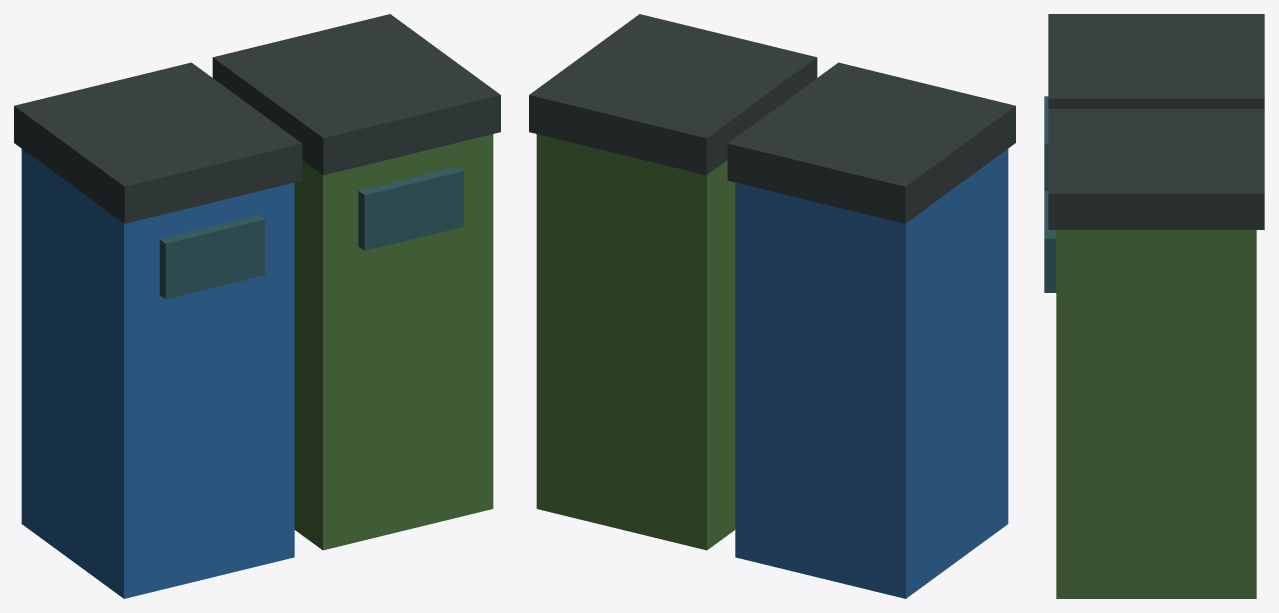
File: sorting_bins.glb
3 views of the same model, side by side, from view 1: azimuth 30°, elevation 25°; view 2: azimuth 150°, elevation 25°; view 3: azimuth 270°, elevation 25° (orthographic). The views are drawn at different scales.
Visible parts, largest first — view 1: sorting_bins; view 2: sorting_bins; view 3: sorting_bins.
Part boxes in pixels (x1,y1,x2,y2): sorting_bins: [14, 14, 500, 598]; sorting_bins: [529, 14, 1015, 598]; sorting_bins: [1044, 14, 1264, 598].
Size of the model in its own units: 1.06 by 1.12 by 0.55.
